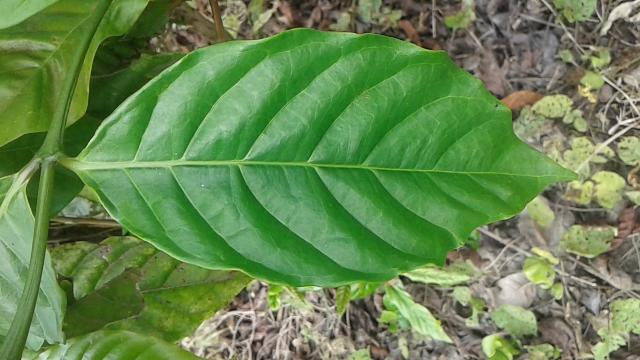healthy: (80, 34, 564, 284)
